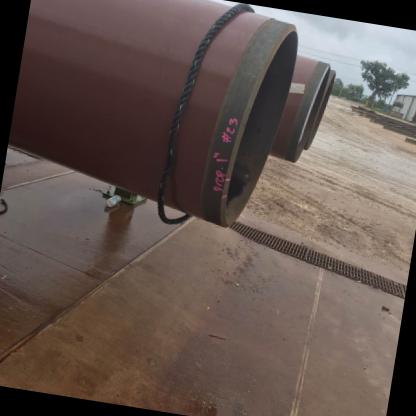Bevel: (224, 180, 234, 190)
